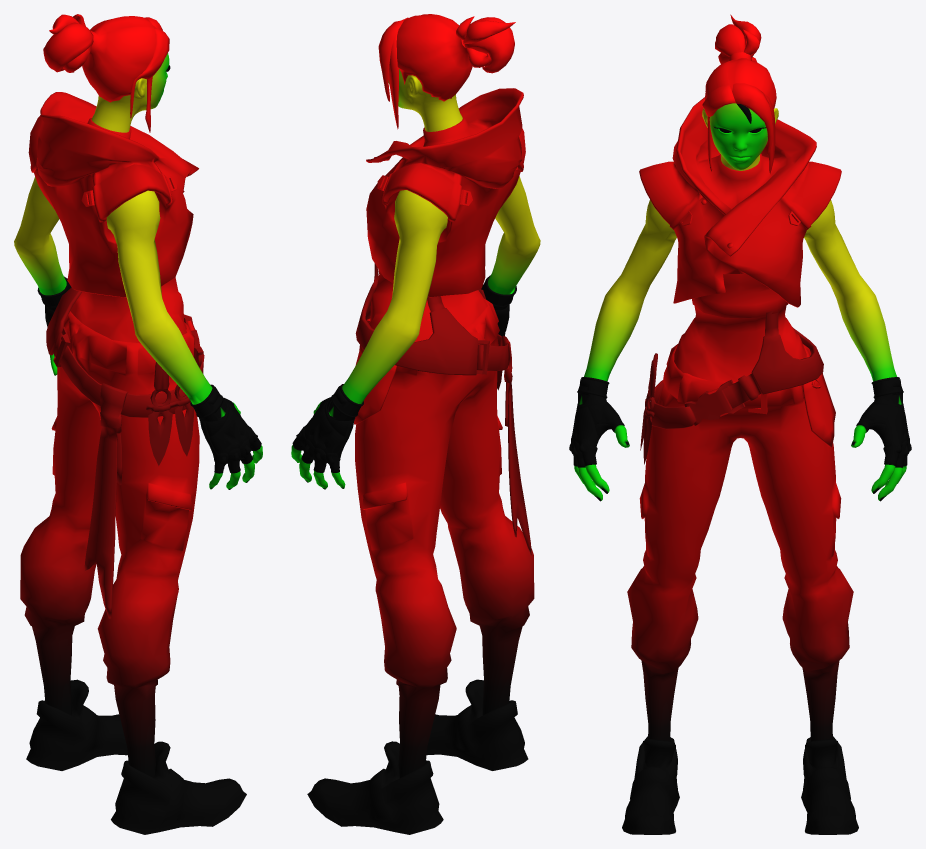
The model's file is Jett_Mesh.fbx.
3 views of the same model, side by side, from view 1: azimuth 30°, elevation 25°; view 2: azimuth 150°, elevation 25°; view 3: azimuth 270°, elevation 25° (orthographic). The views are drawn at different scales.
Parts seen in each view (by area): view 1: TP_Wushu_S0_Skelmesh.mo; view 2: TP_Wushu_S0_Skelmesh.mo; view 3: TP_Wushu_S0_Skelmesh.mo.
Part boxes in pixels (x1,y1,x2,y2): TP_Wushu_S0_Skelmesh.mo: (14,14,262,834); TP_Wushu_S0_Skelmesh.mo: (291,14,540,834); TP_Wushu_S0_Skelmesh.mo: (569,14,911,834).
Size of the model in its own units: 0.4531 by 2.14 by 0.8702.
